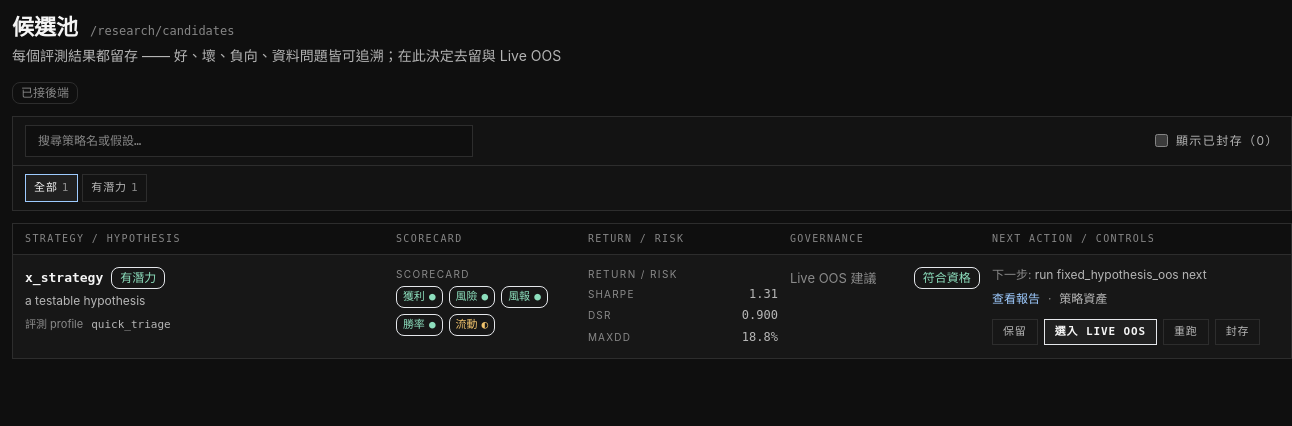
CandidatePoolPage — api mode (real mutations) › illegal transition 400 on a no-reason action → page-level error banner (not silent)
Check: the heading "x_strategy" is shown, box [25,269,103,288]
Click the button "保留".
click(1015, 332)  # box [992,319,1038,345]
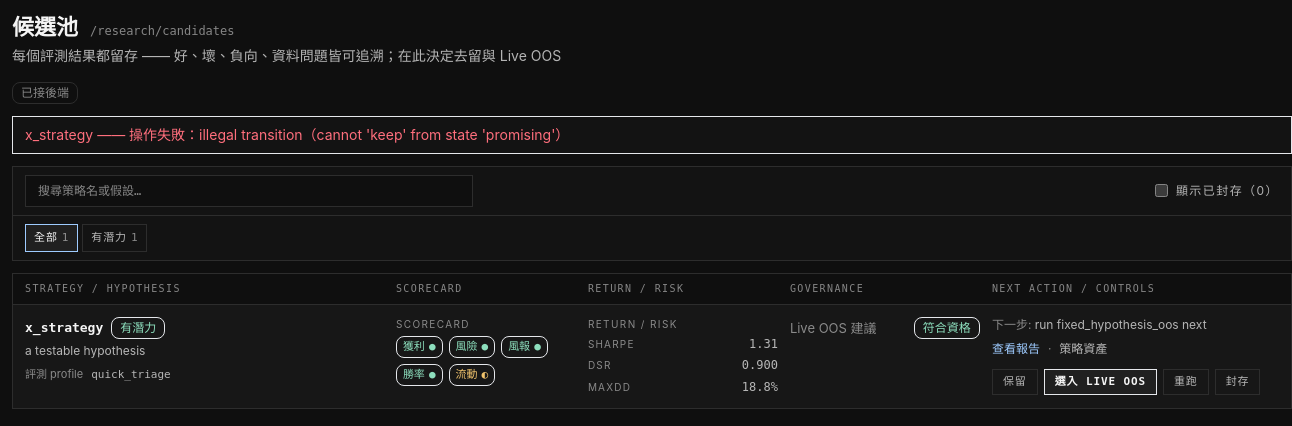
Check: the text "x_strategy —— 操作失敗：illegal transition（cannot 'keep' from state 'promising'）" is shown, box [12,116,1291,154]
